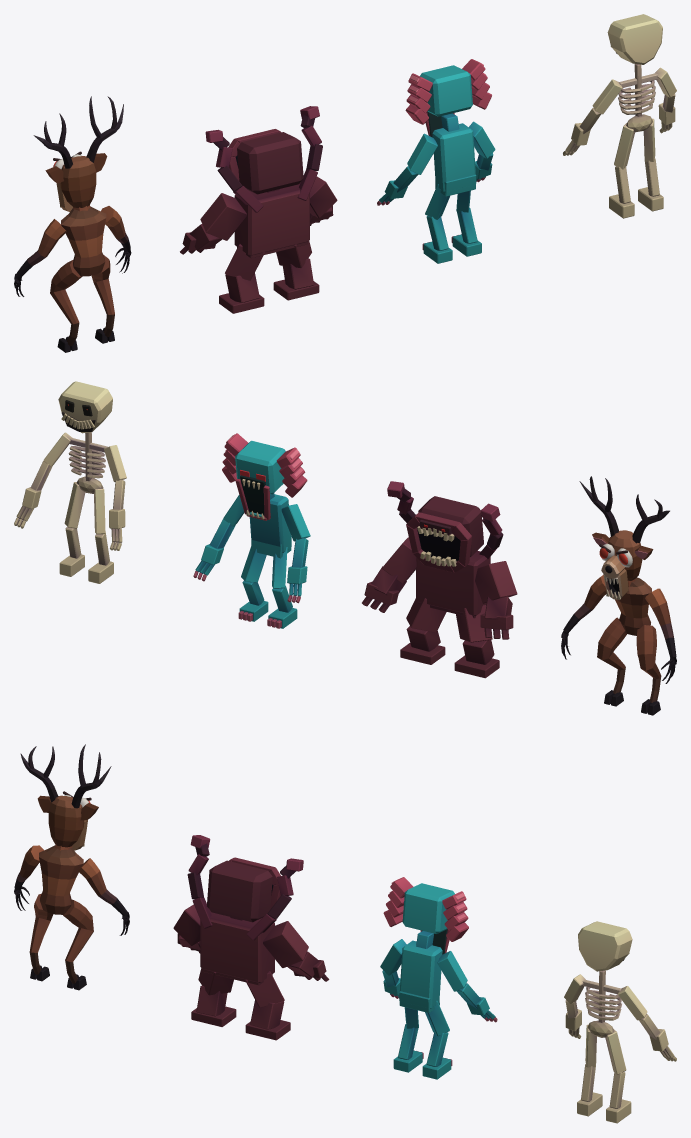
File: RoadRootArchetypes.glb
The picture shows the model from 3 angles, top to bottom: view 1: azimuth 30°, elevation 25°; view 2: azimuth 150°, elevation 25°; view 3: azimuth 330°, elevation 25°; orthographic projection.
Parts seen in each view (by area): view 1: Parasite_Root_Aggressive__Body, Stalker_Root_Aggressive__Head, Parasite_Root_Aggressive__Head, Deer_Root_Aggressive__Head, Stalker_Root_Aggressive__Body, Deer_Root_Aggressive__Body, Verity_Root_Aggressive__Head, Parasite_Root_Aggressive__ArmL, Parasite_Root_Aggressive__LegL, Parasite_Root_Aggressive__LegR, Verity_Root_Aggressive__Body, Deer_Root_Aggressive__LegL (+14 smaller); view 2: Parasite_Root_Aggressive__Head, Stalker_Root_Aggressive__Head, Deer_Root_Aggressive__Head, Parasite_Root_Aggressive__Body, Parasite_Root_Aggressive__ArmL, Verity_Root_Aggressive__Head, Parasite_Root_Aggressive__LegR, Parasite_Root_Aggressive__LegL, Parasite_Root_Aggressive__ArmR, Stalker_Root_Aggressive__Body, Stalker_Root_Aggressive__ArmL, Verity_Root_Aggressive__Body (+14 smaller); view 3: Parasite_Root_Aggressive__Body, Stalker_Root_Aggressive__Head, Parasite_Root_Aggressive__Head, Deer_Root_Aggressive__Head, Stalker_Root_Aggressive__Body, Deer_Root_Aggressive__Body, Verity_Root_Aggressive__Head, Parasite_Root_Aggressive__ArmR, Parasite_Root_Aggressive__LegR, Parasite_Root_Aggressive__LegL, Verity_Root_Aggressive__Body, Deer_Root_Aggressive__LegR (+14 smaller).
Part boxes in pixels (<box>): Parasite_Root_Aggressive__Body: <box>234,182,309,258</box>; Stalker_Root_Aggressive__Head: <box>405,59,491,137</box>; Parasite_Root_Aggressive__Head: <box>228,129,303,194</box>; Deer_Root_Aggressive__Head: <box>33,96,123,211</box>; Stalker_Root_Aggressive__Body: <box>432,113,476,196</box>; Deer_Root_Aggressive__Body: <box>61,205,106,276</box>; Verity_Root_Aggressive__Head: <box>607,14,662,64</box>; Parasite_Root_Aggressive__ArmL: <box>180,193,246,254</box>; Parasite_Root_Aggressive__LegL: <box>219,244,264,313</box>; Parasite_Root_Aggressive__LegR: <box>273,241,319,300</box>; Verity_Root_Aggressive__Body: <box>618,64,657,132</box>; Deer_Root_Aggressive__LegL: <box>50,260,82,352</box>; Parasite_Root_Aggressive__Head: <box>406,496,483,572</box>; Stalker_Root_Aggressive__Head: <box>222,433,307,520</box>; Deer_Root_Aggressive__Head: <box>579,476,669,600</box>; Parasite_Root_Aggressive__Body: <box>416,550,490,618</box>; Parasite_Root_Aggressive__ArmL: <box>475,561,517,639</box>; Verity_Root_Aggressive__Head: <box>58,381,112,433</box>; Parasite_Root_Aggressive__LegR: <box>400,598,446,664</box>; Parasite_Root_Aggressive__LegL: <box>454,605,499,678</box>; Parasite_Root_Aggressive__ArmR: <box>362,537,416,612</box>; Stalker_Root_Aggressive__Body: <box>249,493,291,558</box>; Stalker_Root_Aggressive__ArmL: <box>281,504,310,603</box>; Verity_Root_Aggressive__Body: <box>68,432,107,493</box>; Parasite_Root_Aggressive__Body: <box>200,911,274,985</box>; Stalker_Root_Aggressive__Head: <box>383,877,468,954</box>; Parasite_Root_Aggressive__Head: <box>207,857,280,922</box>; Deer_Root_Aggressive__Head: <box>20,744,111,850</box>; Stalker_Root_Aggressive__Body: <box>399,931,442,1012</box>; Deer_Root_Aggressive__Body: <box>39,844,83,914</box>; Verity_Root_Aggressive__Head: <box>578,921,632,971</box>; Parasite_Root_Aggressive__ArmR: <box>263,921,329,981</box>; Parasite_Root_Aggressive__LegR: <box>245,971,290,1040</box>; Parasite_Root_Aggressive__LegL: <box>191,968,236,1026</box>; Verity_Root_Aggressive__Body: <box>582,970,621,1037</box>; Deer_Root_Aggressive__LegR: <box>63,899,93,990</box>.
Size of the model in its own units: 25.22 by 8.59 by 2.46.
